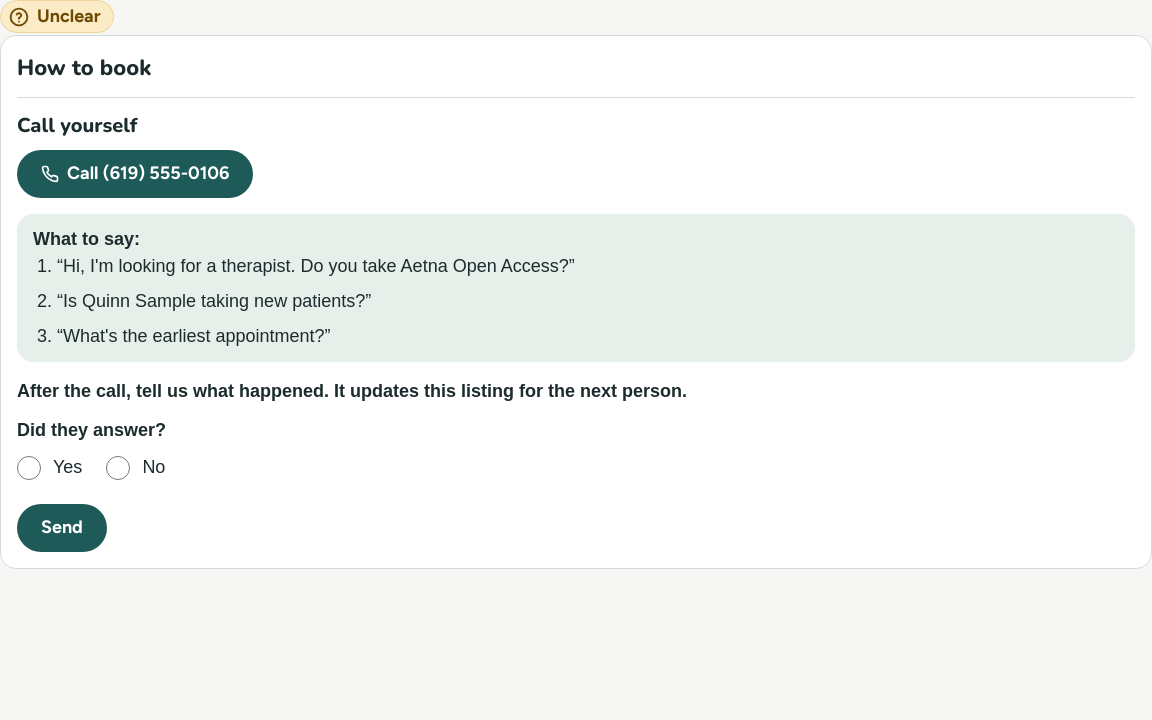
Test: sends the report to the API and swaps the badge
The width and height of the screenshot is (1152, 720).
Click the radio button labelled "Yes": (29, 468) [17,456,41,480]
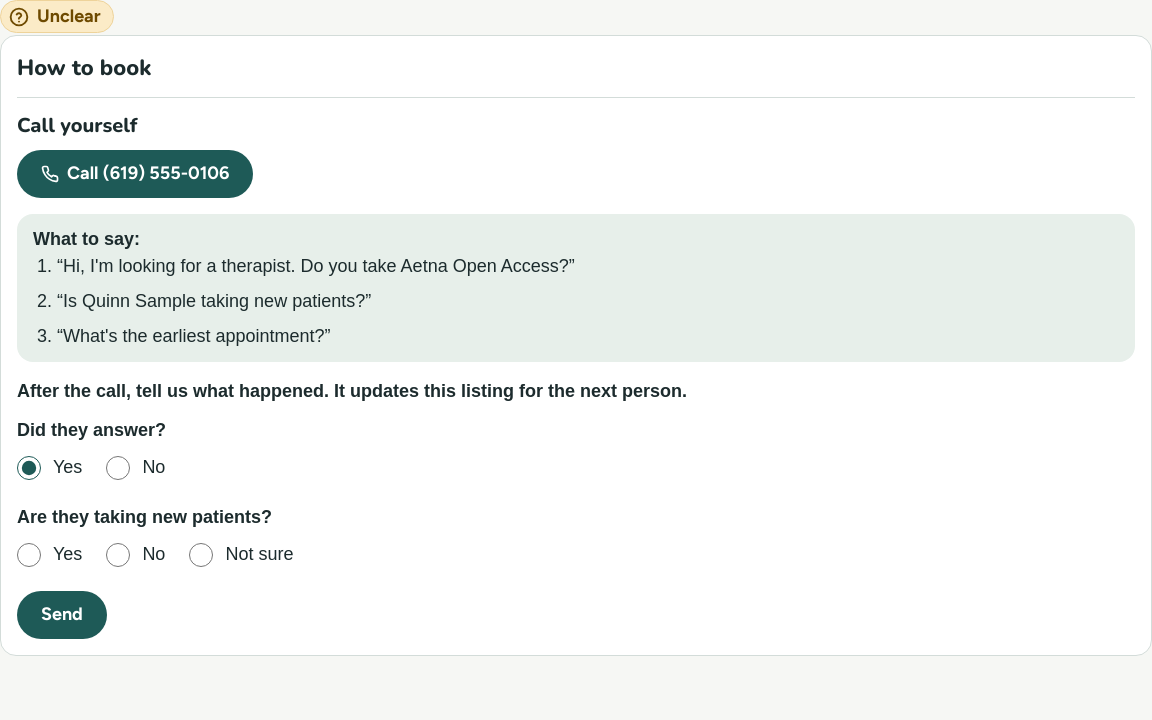
Click the radio button labelled "No" in the row of "Not sure": (118, 555) [106,543,130,567]
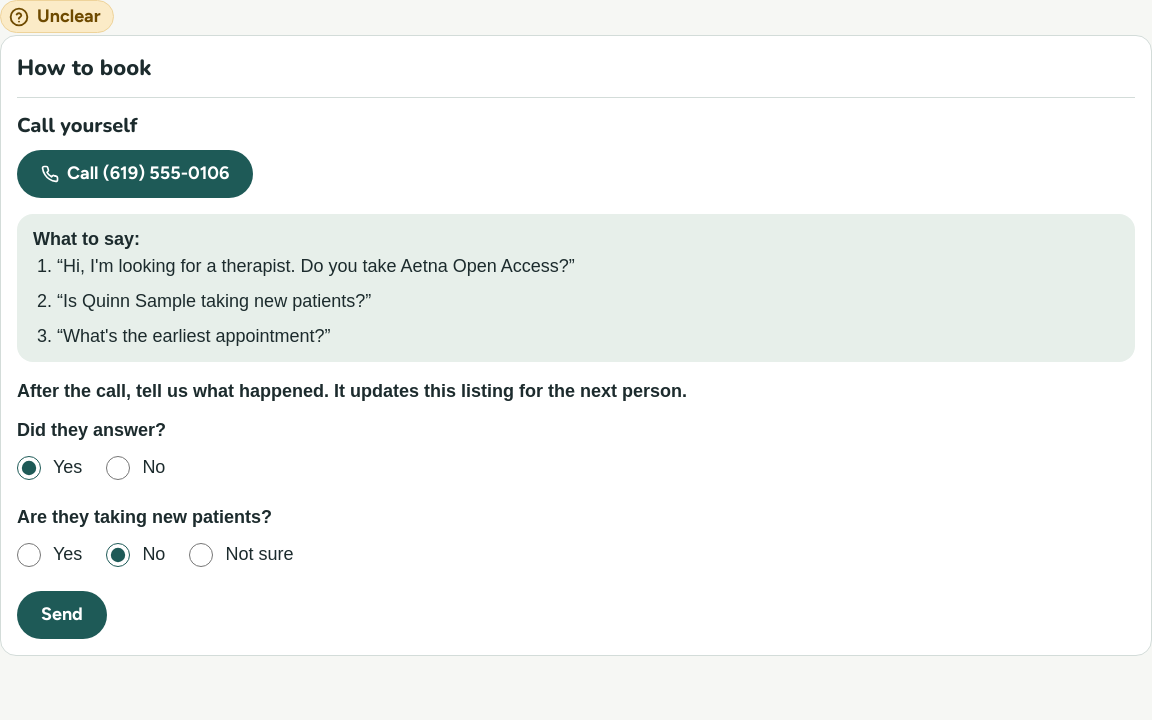
Click the button "Send": (62, 615) [17,591,107,639]
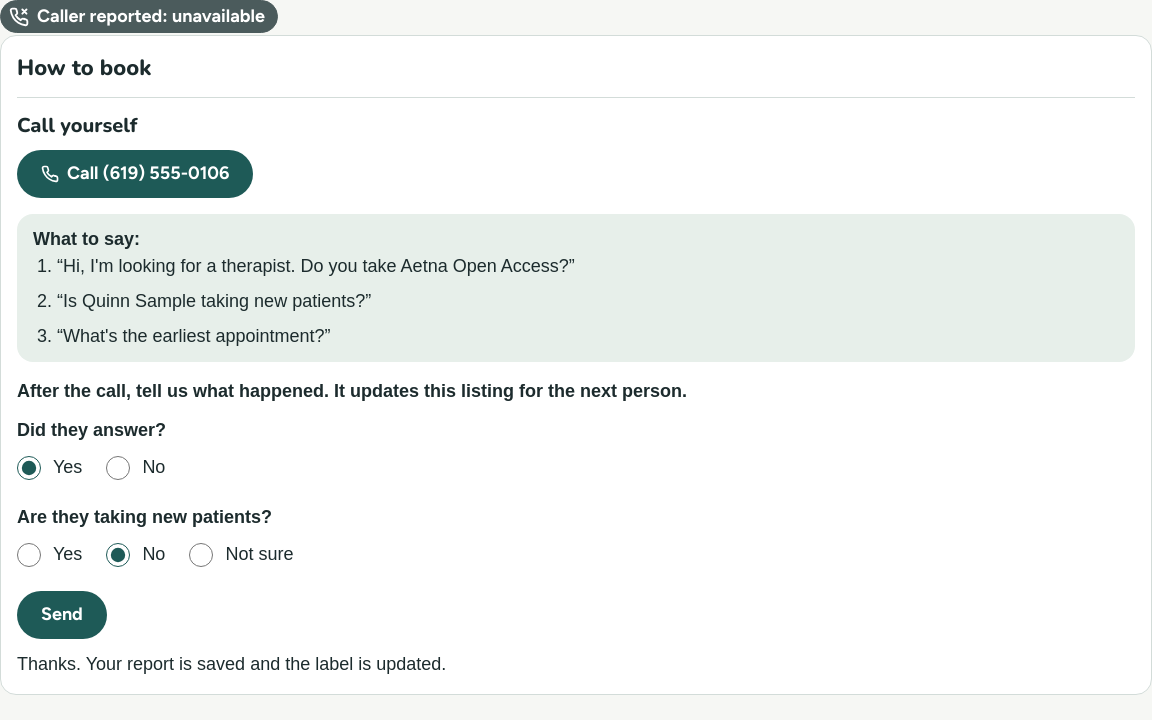
Result: the text "Caller reported: unavailable" is shown at [0,0,278,33]
Result: the text "Unclear" is gone
